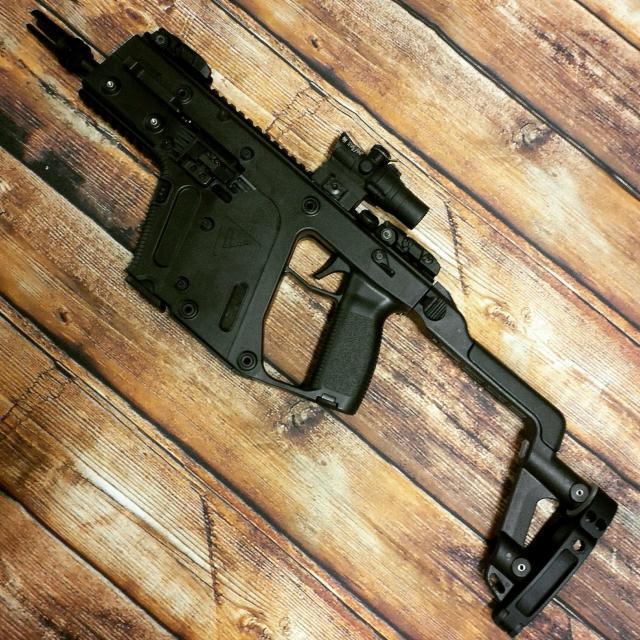SMG: (28, 6, 640, 640)
